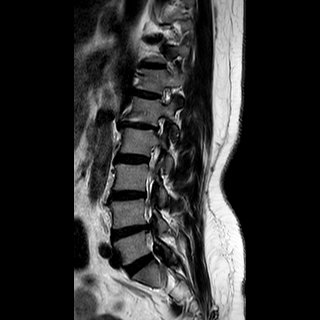LFS0: (147, 111, 173, 139)
